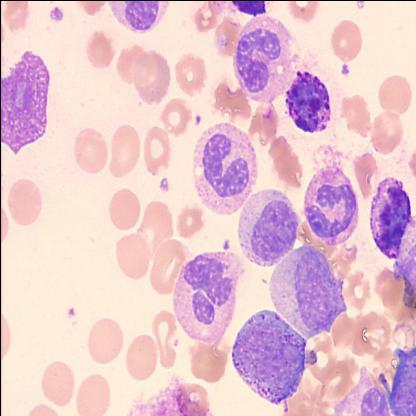Promyelocyte: (232, 310, 306, 406)
